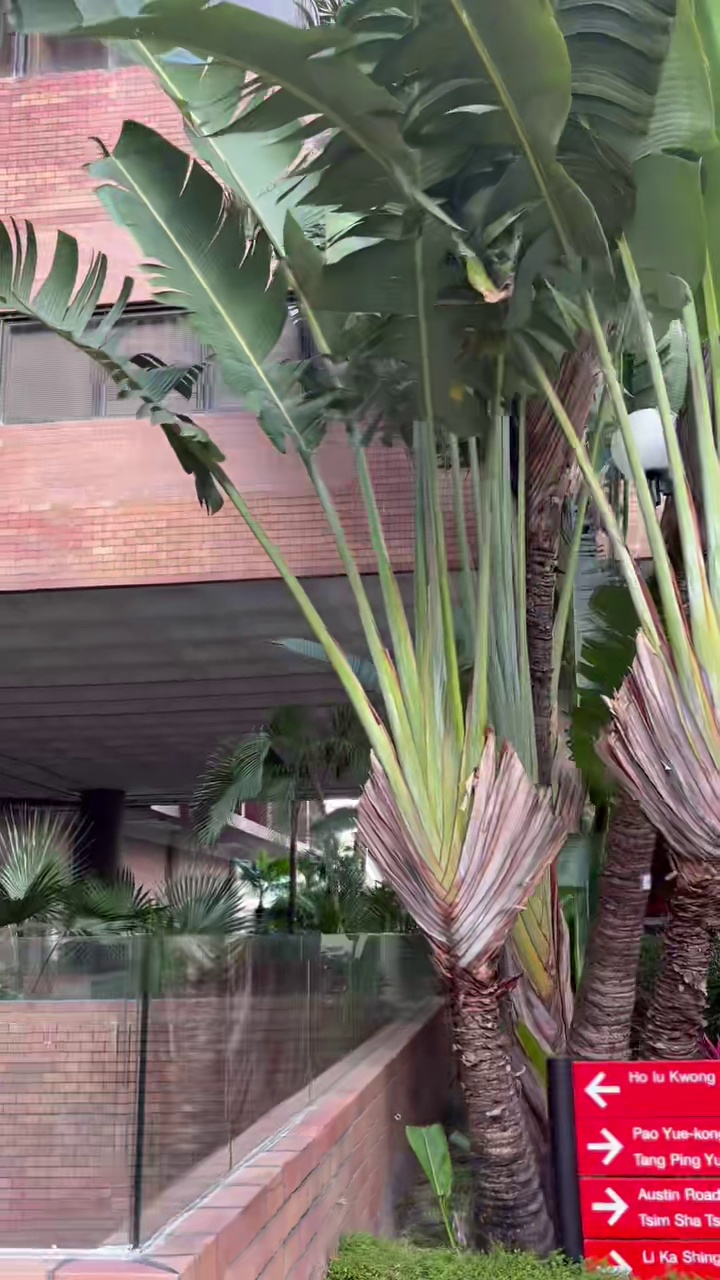Travellers-tree: (13, 0, 719, 1251)
